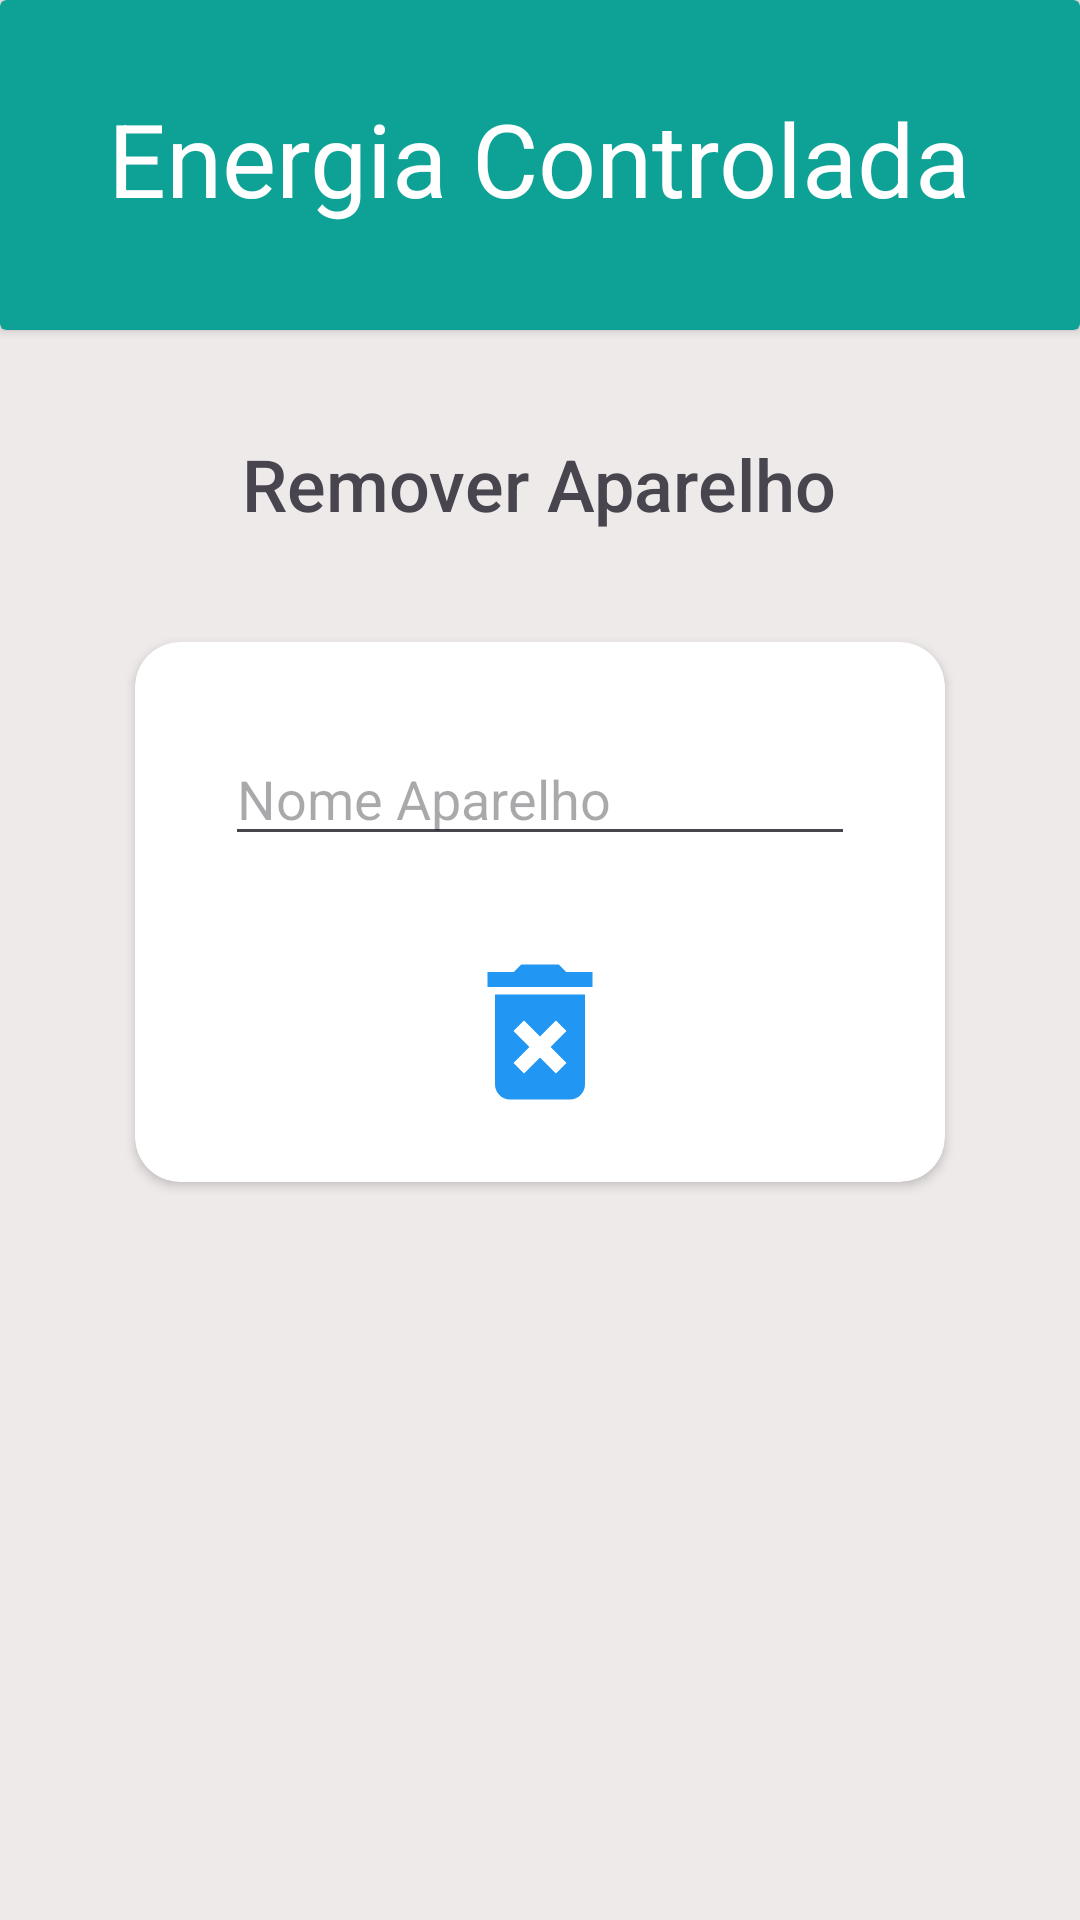

Icons on this 1080px×1920px Android screen, each with the point to tap as [x,y]:
delete: [540,1032]
